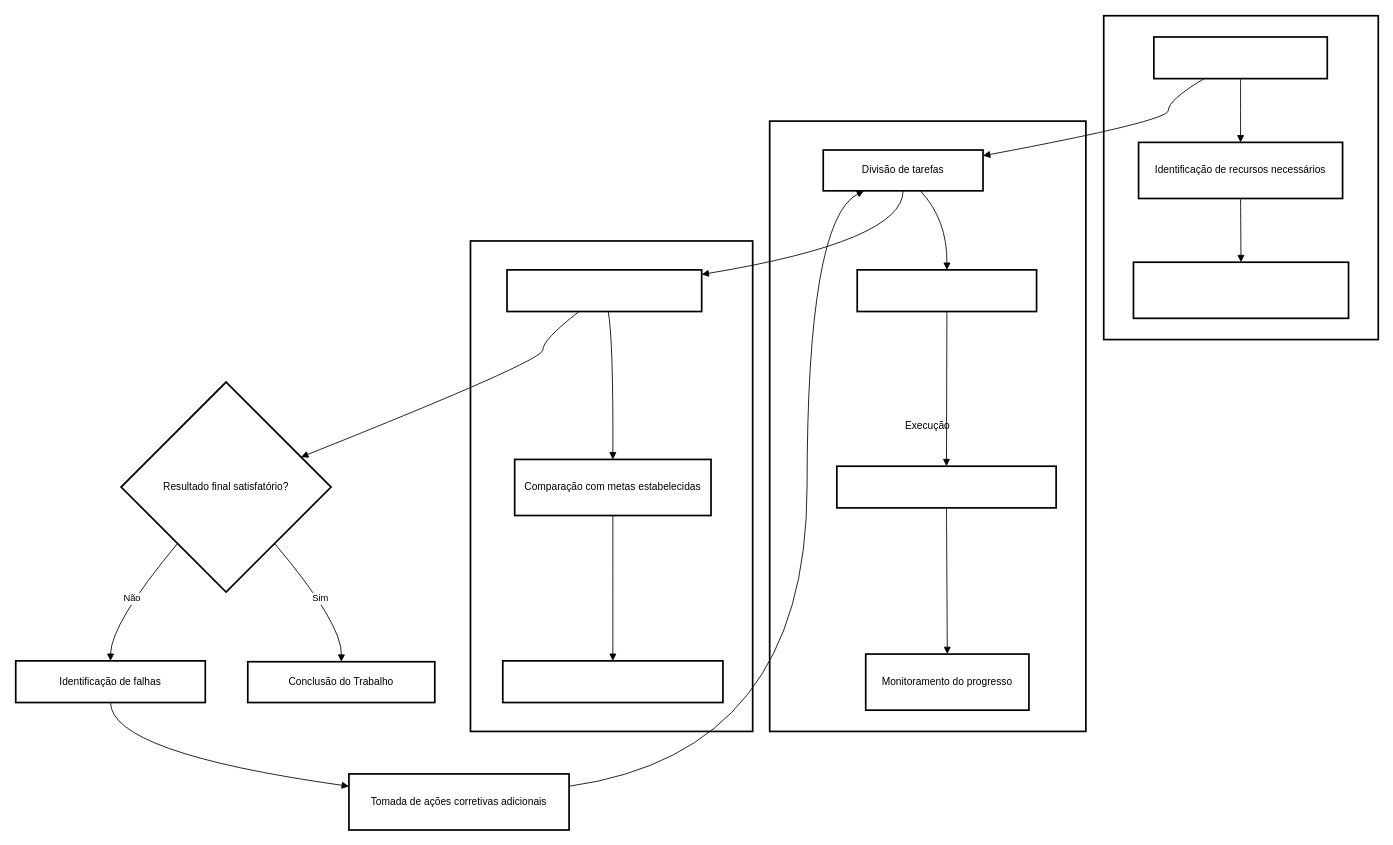
Image size: 1393x845. Some labels were removed from this diagram. Here are the shapes that lost their labels. From the top down, the centre of each, then its label:
At [1240,57]: "Definição do escopo".
At [604,290]: "Avaliação de resultados".
At [946,290]: "Alocação de recursos".
At [1240,290]: "Estabelecimento de prazos e metas".
At [946,486]: "Implementação do trabalho".
At [612,681]: "Tomada de ações corretivas".
